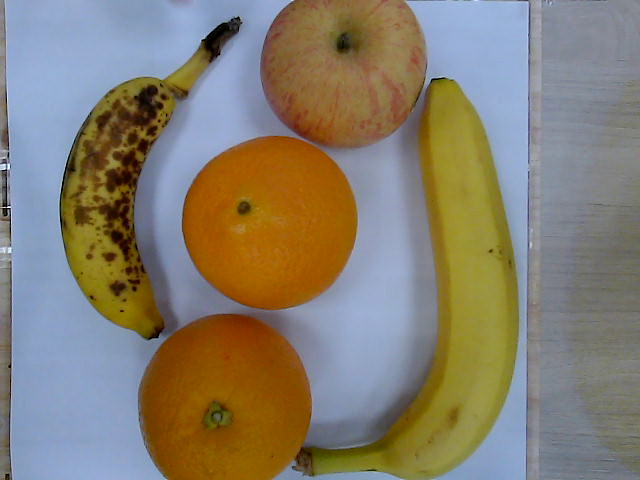fresh_apple: (263, 1, 427, 147)
fresh_banana: (308, 77, 521, 480)
fresh_orange: (184, 136, 358, 309), (137, 314, 312, 480)
rotten_banana: (59, 19, 240, 340)
